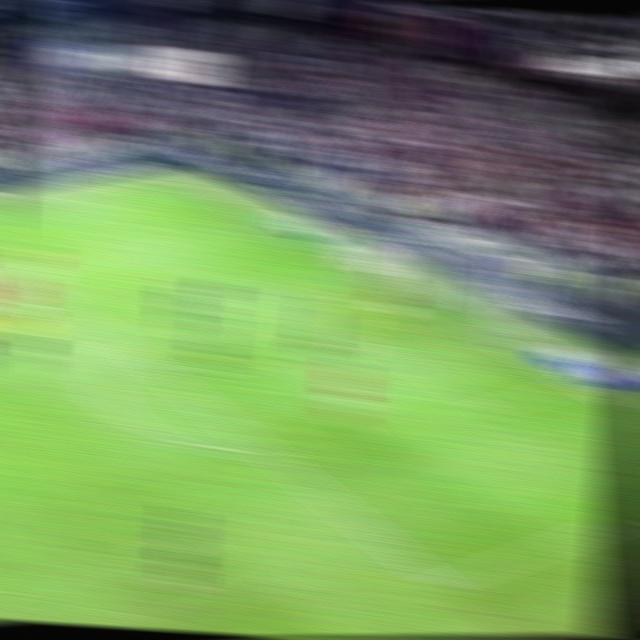bigarea_bottom_inner: (418, 563, 464, 599)
bigarea_top_inner: (10, 261, 44, 283)
bigarea_top_outter: (248, 215, 286, 234)
bottom_arc_area_intersection: (244, 436, 286, 463)
corner: (149, 165, 189, 183)
smallarea_bottom_inner: (464, 390, 509, 424)
smallarea_bottom_outter: (556, 371, 596, 394)
smallarea_top_inner: (269, 280, 306, 303)
smallarea_top_outter: (343, 263, 384, 285)
top_arc_area_intersection: (102, 332, 141, 355)
